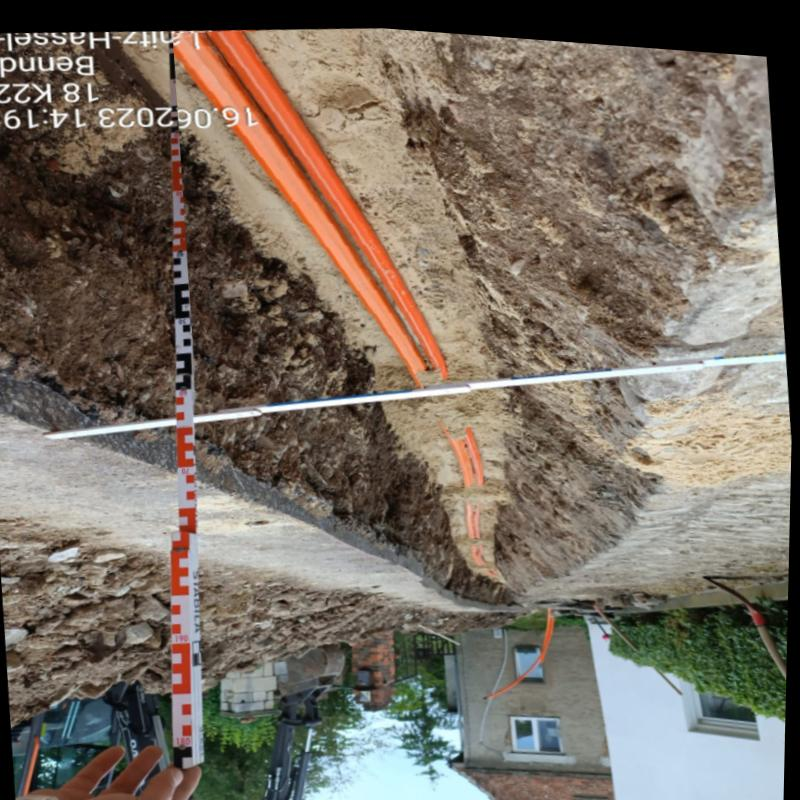Orang-Speednetrohrchen: (173, 27, 446, 363), (442, 418, 486, 479), (461, 495, 483, 530)
